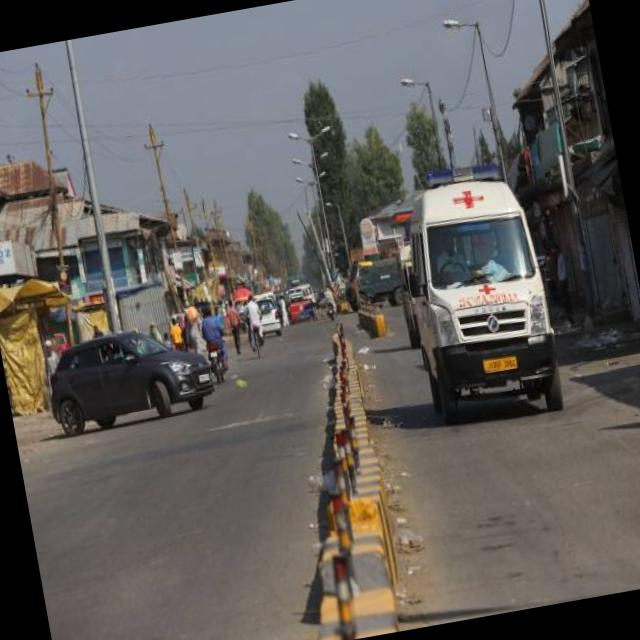ambulance: (394, 154, 560, 425)
